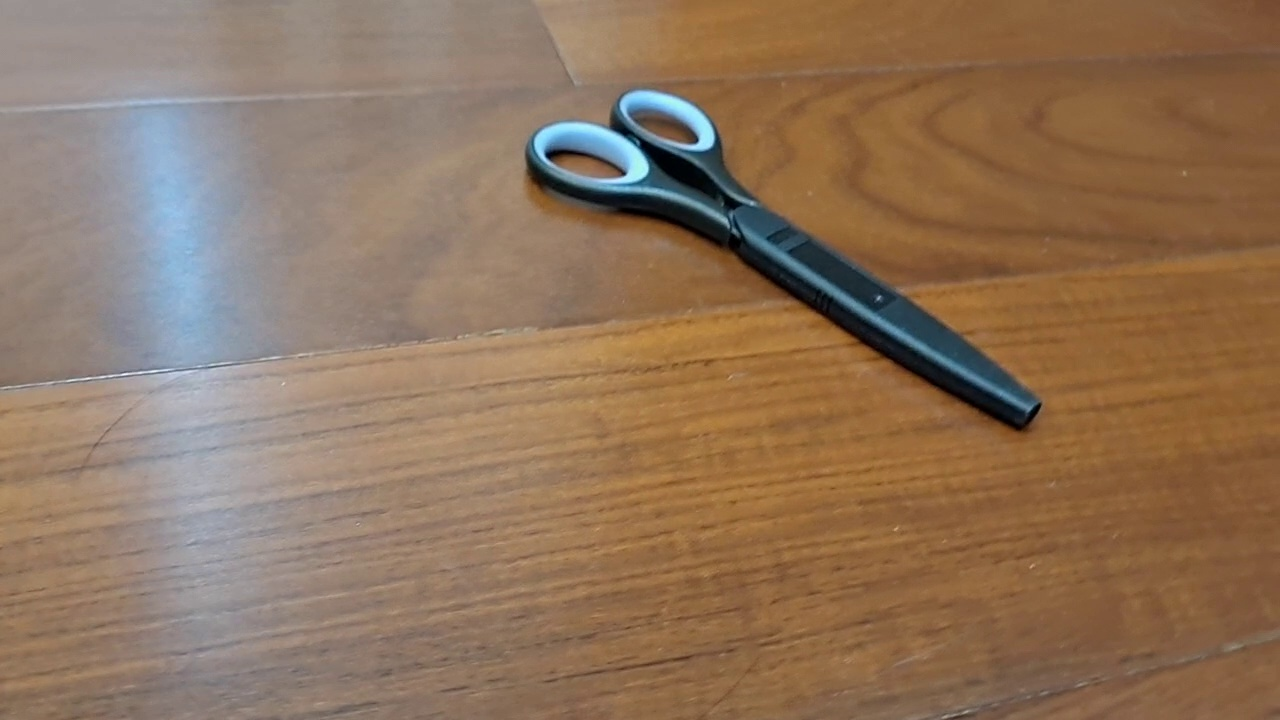scissors: (524, 87, 1043, 432)
